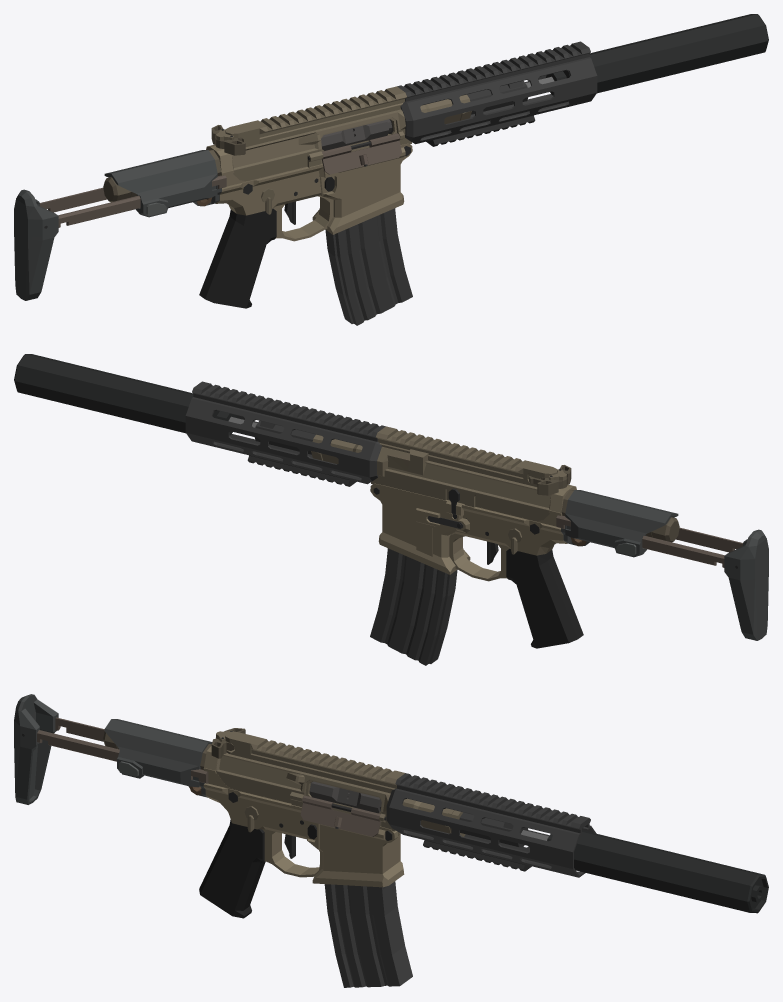
Rendered from AAC Honeybadger.fbx.
3 renders of one model, top to bottom at view 1: azimuth 30°, elevation 25°; view 2: azimuth 150°, elevation 25°; view 3: azimuth 330°, elevation 25°, orthographic.
Parts seen in each view (by area): view 1: Cube.005; view 2: Cube.005; view 3: Cube.005.
Part boxes in pixels (x1,y1,x2,y2): Cube.005: [14, 14, 768, 325]; Cube.005: [14, 354, 768, 665]; Cube.005: [14, 694, 768, 987].
Size of the model in its own units: 531 by 151 by 37.22.
